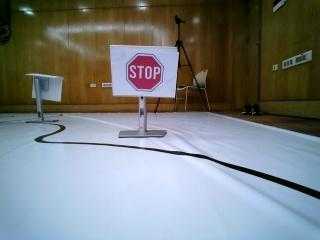stop: (112, 47, 177, 99)
